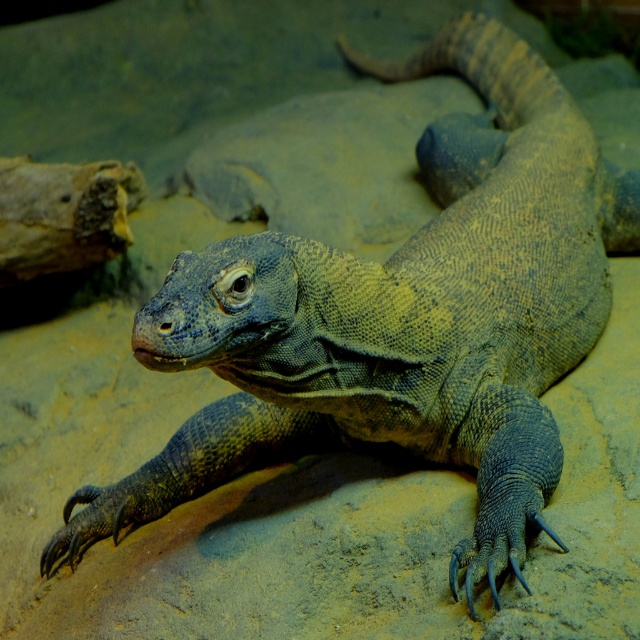Lizard: (38, 9, 611, 624)
